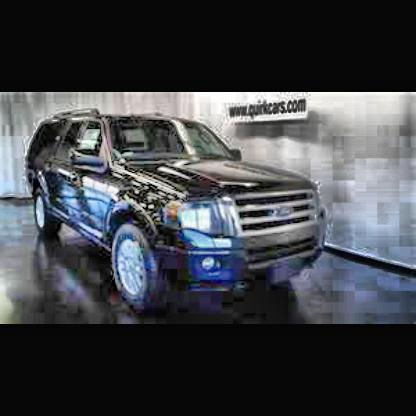Ford Expedition EL SUV 2009: (25, 107, 334, 313)
